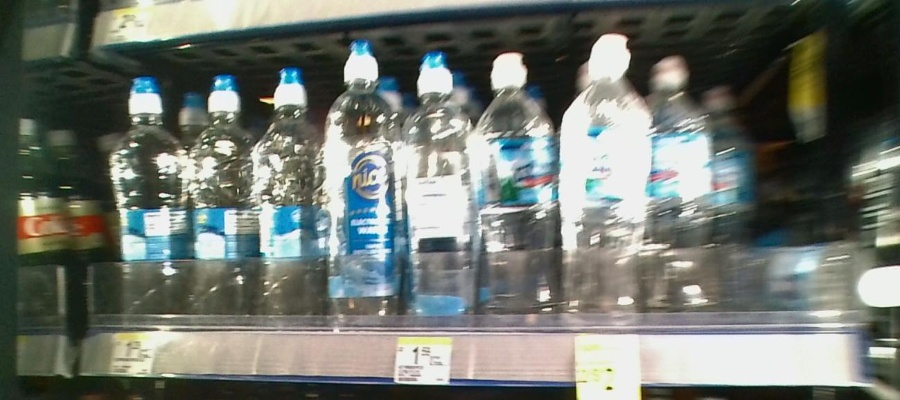bottle: (561, 25, 650, 322), (107, 76, 190, 336), (328, 37, 400, 334), (403, 46, 476, 332), (480, 46, 554, 320), (255, 66, 324, 332), (653, 44, 715, 325), (194, 74, 254, 339)
